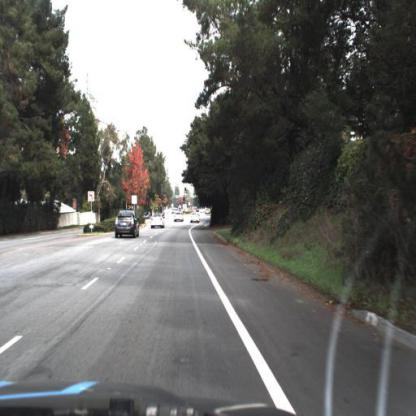car: (114, 207, 141, 243), (148, 208, 166, 233), (186, 208, 203, 231), (173, 207, 186, 228)
